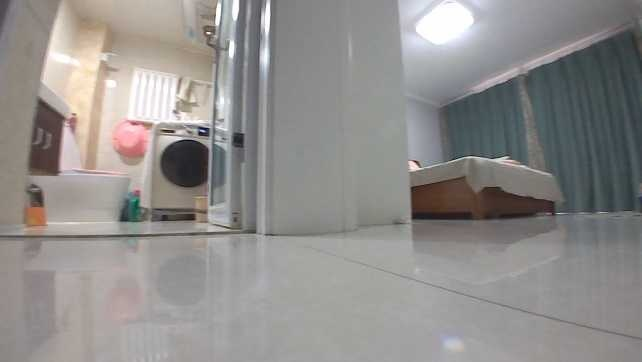bed: (404, 153, 564, 220)
door_anno: (201, 0, 251, 226)
toilet: (28, 119, 131, 225)
washing_machine: (140, 119, 211, 222)
